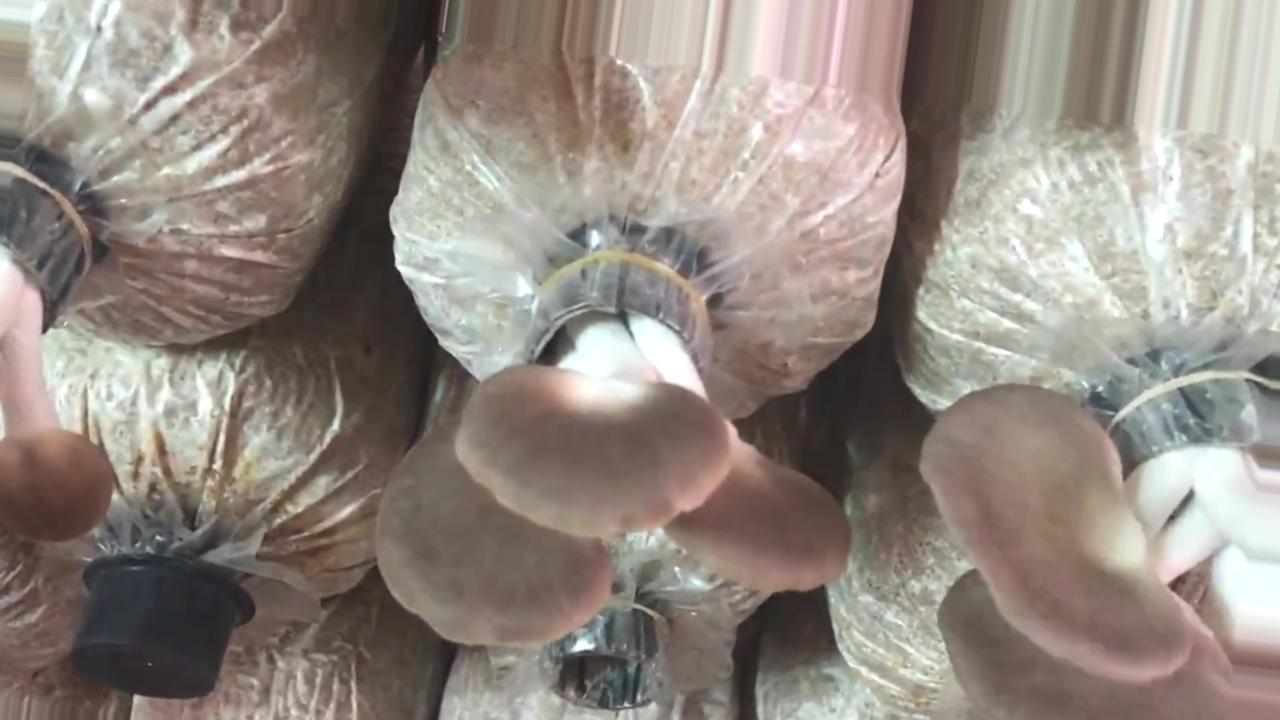nam: (382, 254, 850, 649), (916, 383, 1280, 718), (1, 153, 113, 546)
